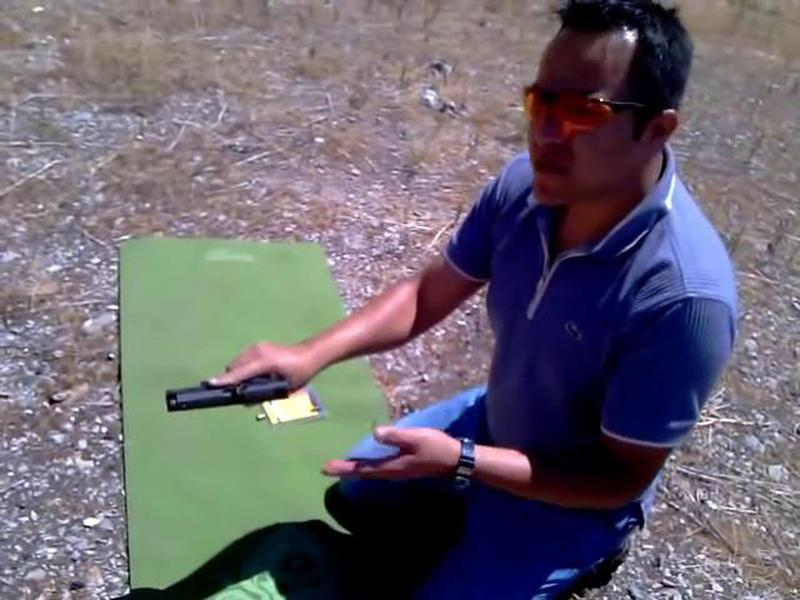Pistola: (151, 342, 304, 436)
